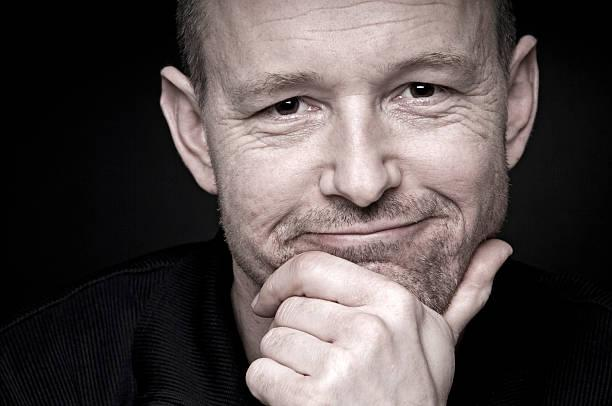Wrinkles: (251, 0, 461, 26), (311, 17, 418, 31), (456, 113, 497, 136), (457, 122, 485, 140), (240, 135, 278, 147), (469, 85, 497, 96), (232, 127, 255, 140), (400, 24, 429, 34), (240, 147, 269, 155), (448, 106, 471, 115), (406, 36, 438, 42), (220, 134, 234, 143), (273, 39, 323, 40), (437, 113, 453, 114)
